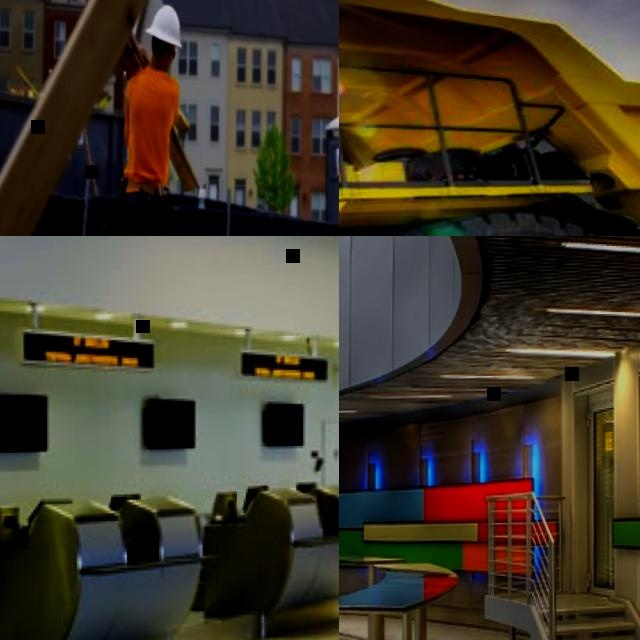Hardhat: (143, 3, 183, 49)
NO-Safety Vest: (124, 68, 181, 192)
Person: (115, 2, 189, 236)
machinery: (339, 0, 640, 236)
